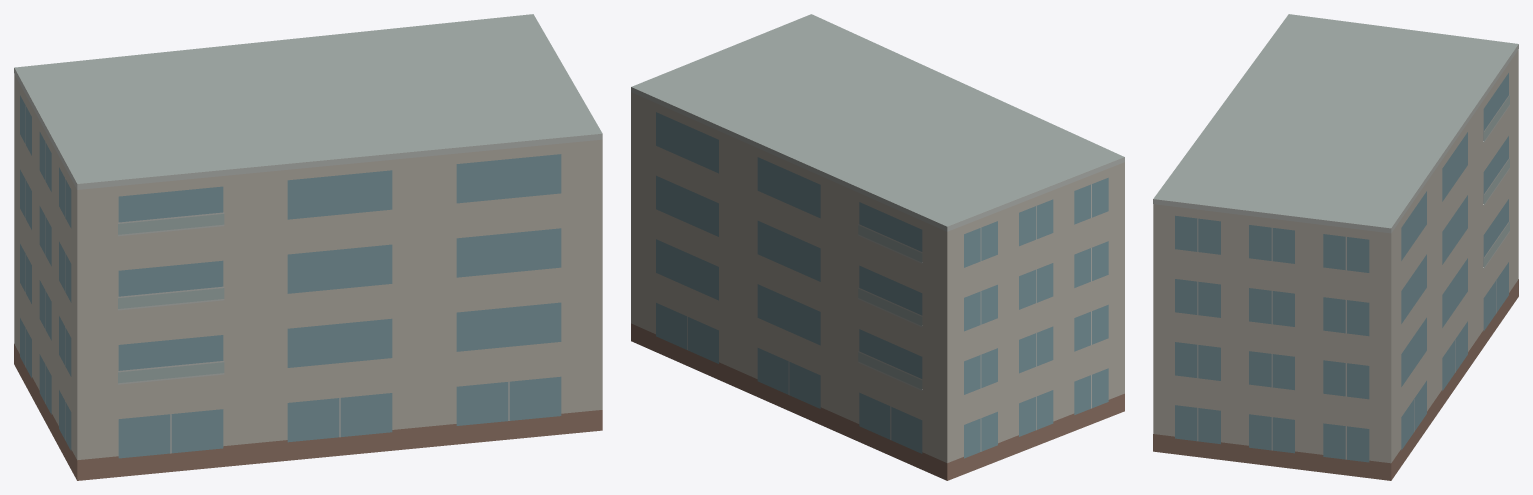
File: survey-upis-32818328.glb
3 views of the same model, side by side, from view 1: azimuth 30°, elevation 25°; view 2: azimuth 150°, elevation 25°; view 3: azimuth 270°, elevation 25° (orthographic). The views are drawn at different scales.
Visible parts, largest first — view 1: survey-upis-32818328.tmp; view 2: survey-upis-32818328.tmp; view 3: survey-upis-32818328.tmp.
Boxes of the visible parts, left/top/right/bottom form: survey-upis-32818328.tmp: left=14, top=14, right=602, bottom=480; survey-upis-32818328.tmp: left=631, top=14, right=1124, bottom=480; survey-upis-32818328.tmp: left=1153, top=14, right=1518, bottom=480.
Size of the model in its own units: 22.22 by 12.2 by 16.02.
